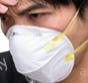with_mask: (2, 1, 88, 83)
